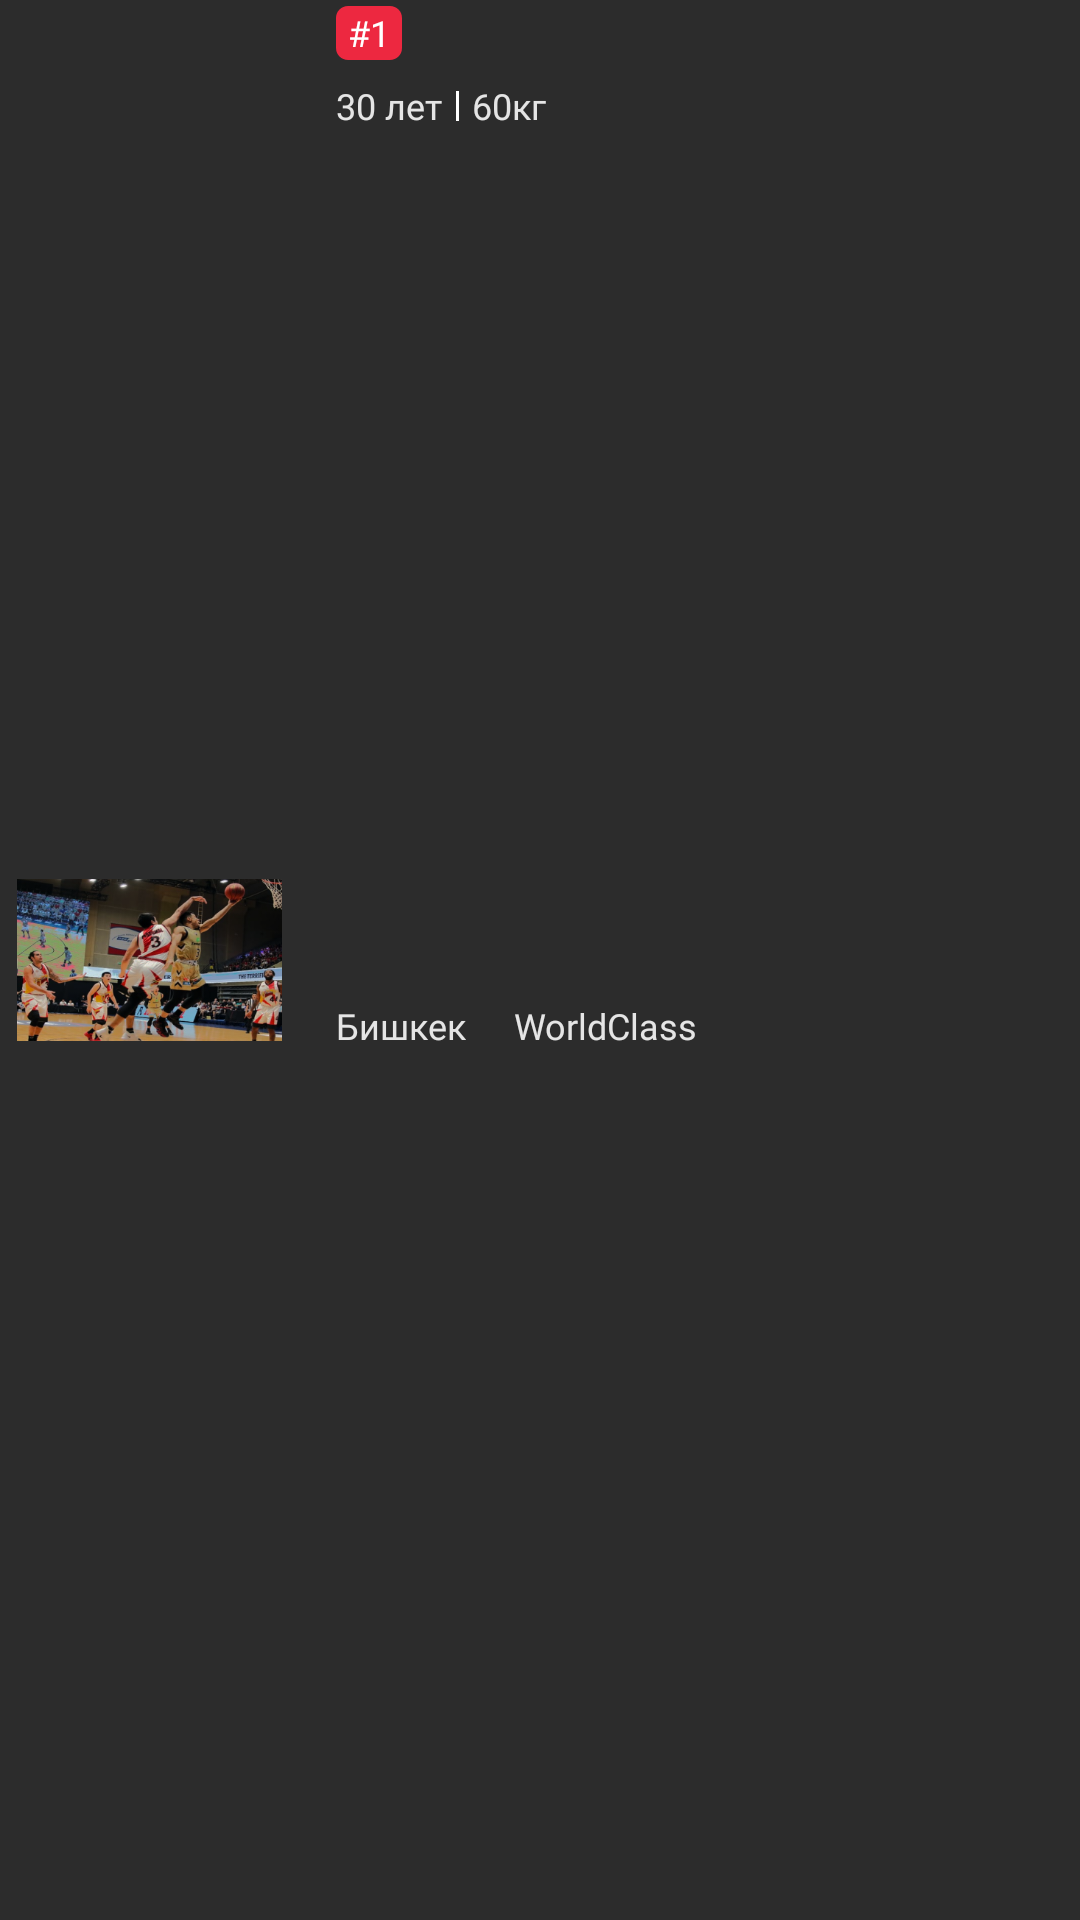

Named icons in this screenshot (1080px×1920px) and their bounding boxes, (x1, y1, x2, y2):
photo: (17, 879, 282, 1041)
